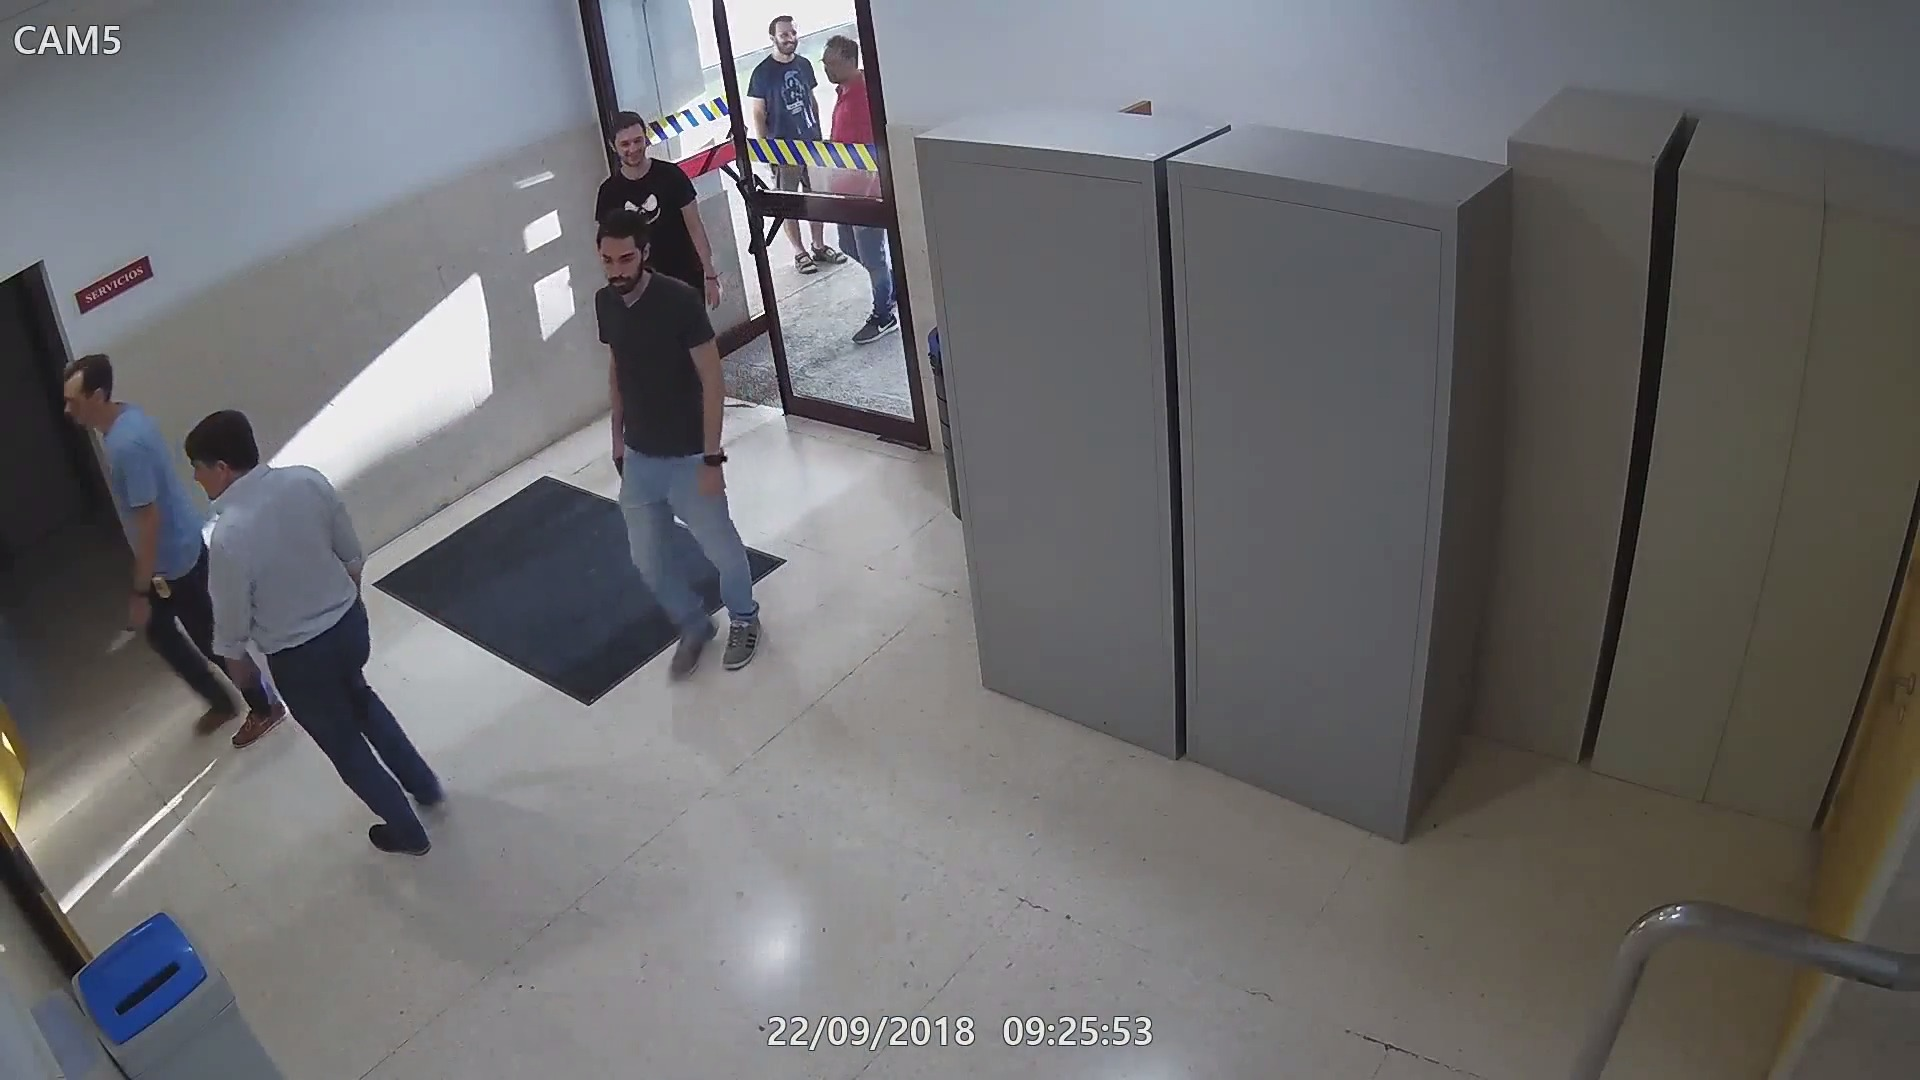Handgun: (765, 160, 785, 189)
Knife: (84, 597, 145, 662)
